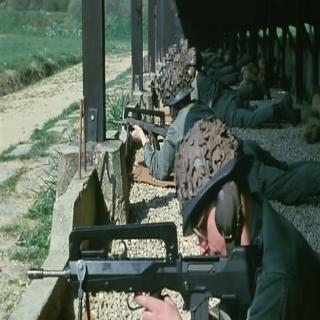gun: (23, 215, 258, 319), (104, 99, 184, 162)
